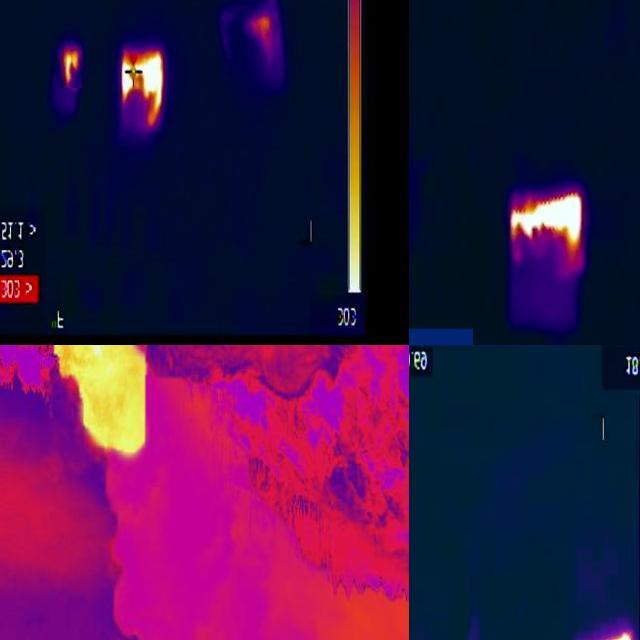fire: (50, 343, 148, 461), (512, 190, 587, 270), (120, 48, 168, 129), (61, 45, 83, 89)
